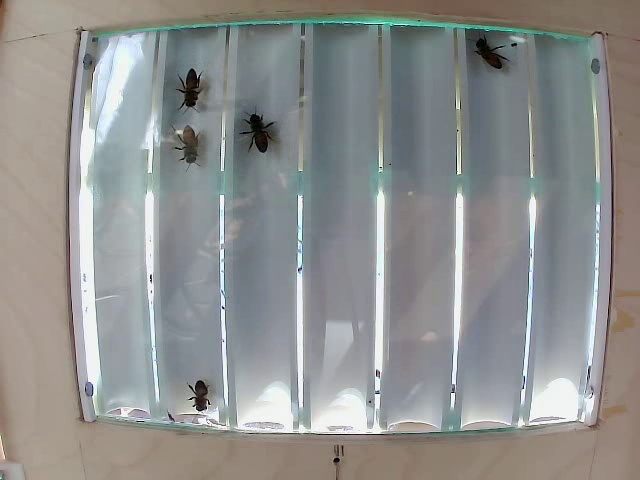bee: (177, 64, 211, 103), (249, 115, 278, 156), (174, 127, 200, 171), (479, 35, 504, 66)
